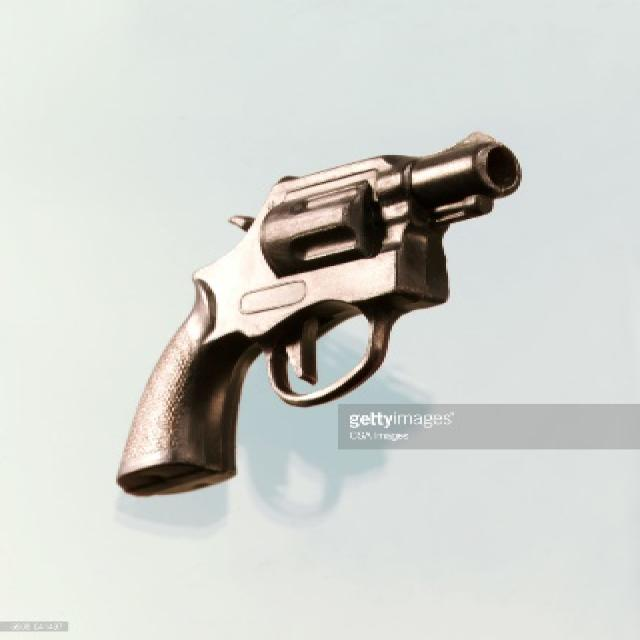handgun: (111, 128, 529, 500)
